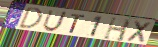1: (89, 15, 104, 38)
D: (17, 6, 43, 30)
H: (102, 16, 133, 43)
T: (68, 13, 87, 35)
U: (42, 10, 69, 33)
X: (125, 20, 153, 45)
